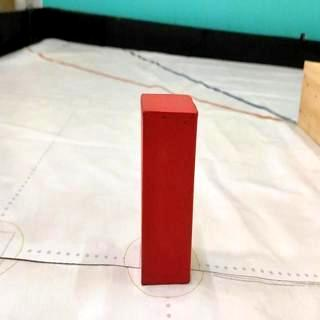redbox: (140, 94, 192, 284)
